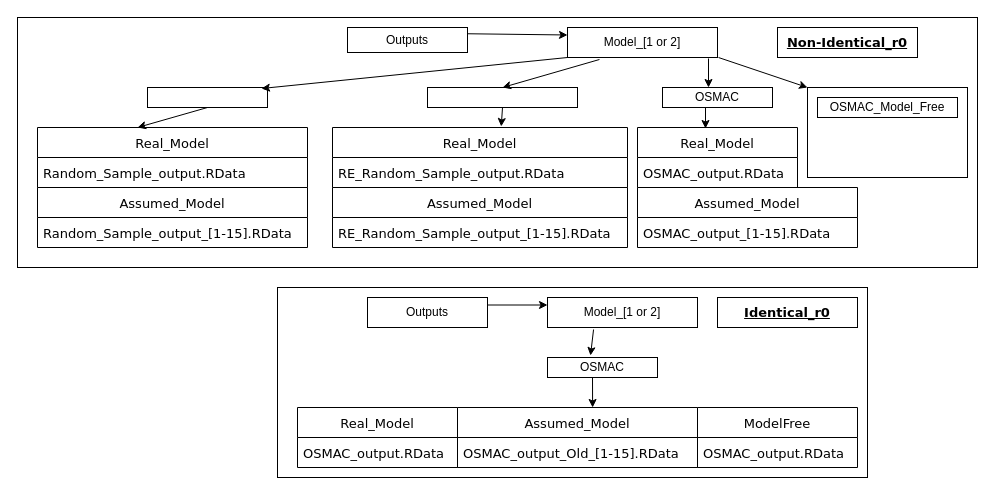
The diagram is 995 pixels wide and 495 high, and some of its shapes have lost their labels. The shapes that lost their labels are listed below. From the top down, each one's box as (x1, y1, x2, y2) in pixels, then its label:
(146, 86, 268, 108): Random_Sampling
(426, 86, 578, 108): RE_Random_Sampling
(806, 86, 968, 178): OSMAC_MF_output.RData
